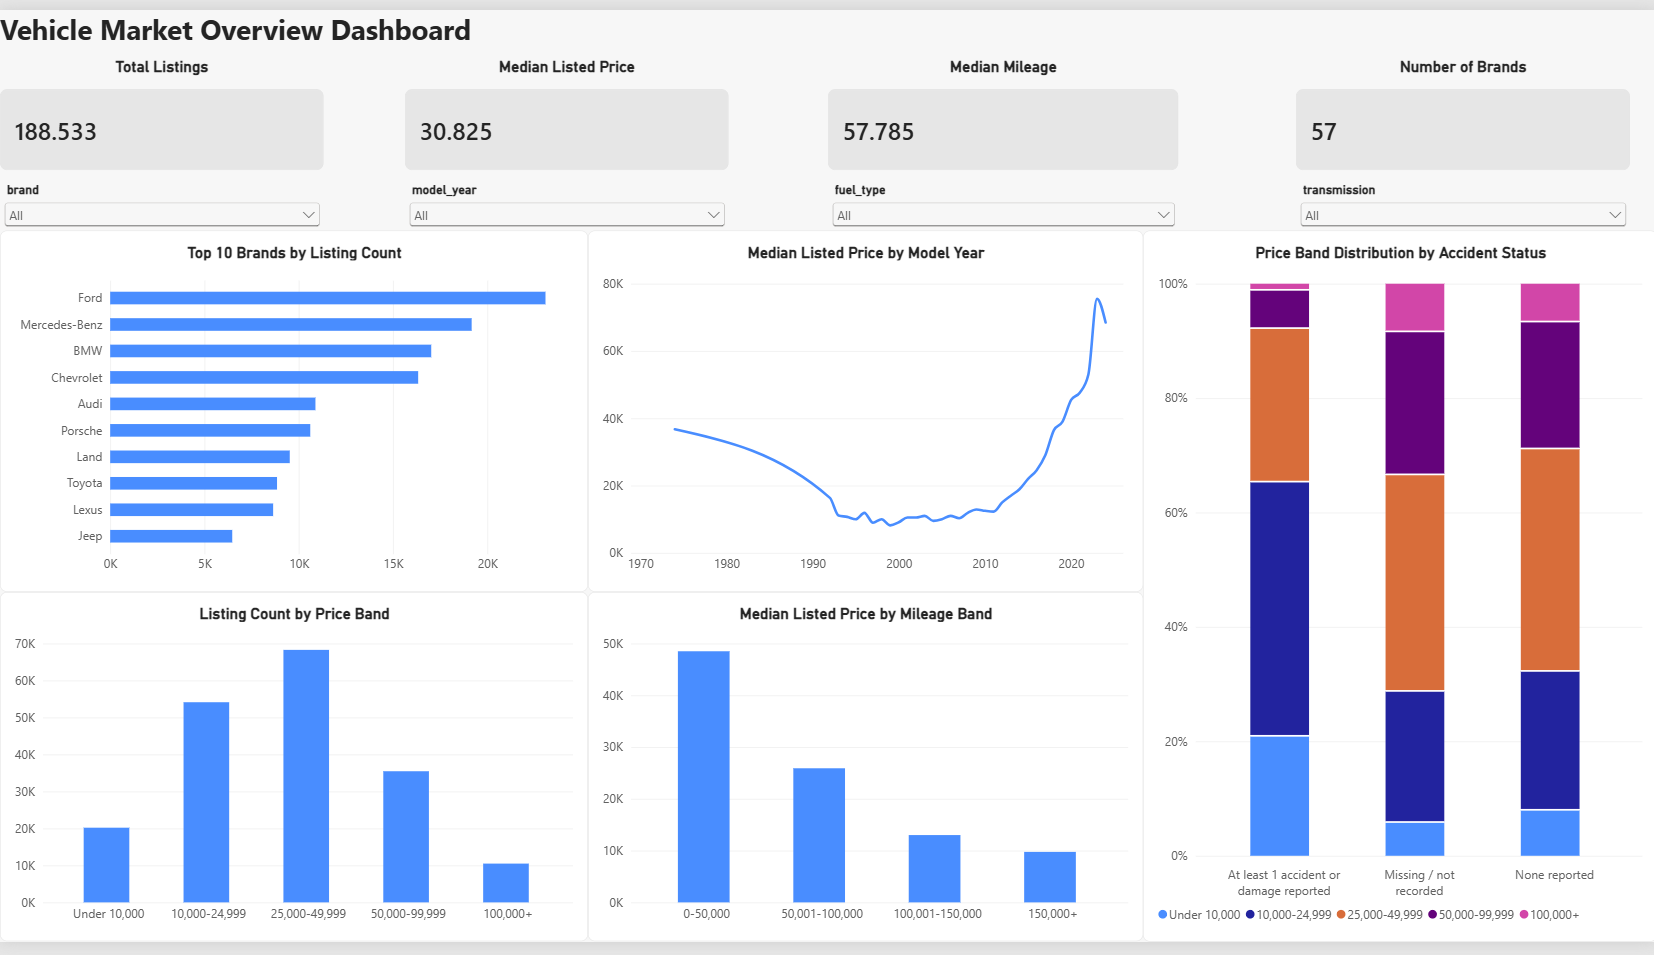

Layout of this report page (visuals, bound fields, positions):
{"tool":"powerbi","page":{"name":"Page 1","canvas":[1920,1080],"ordinal":0},"visuals":[{"type":"cardVisual","title":"Total Listings","fields":{"Data":["CountNonNull(used_cars_cleaned.id)"]},"box":[0,55.6,375.4,130.4],"z":0},{"type":"cardVisual","title":"Median Listed Price","fields":{"Data":["Median(used_cars_cleaned.price)"]},"box":[469.3,55.6,375.4,130.4],"z":1000},{"type":"cardVisual","title":"Median Mileage","fields":{"Data":["Median(used_cars_cleaned.milage)"]},"box":[959.4,55.6,406.7,130.4],"z":2000},{"type":"cardVisual","title":"Number of Brands","fields":{"Data":["Count(used_cars_cleaned.brand)"]},"box":[1501.7,55.6,387.6,130.4],"z":3000},{"type":"clusteredBarChart","title":"Top 10 Brands by Listing Count","fields":{"Category":["used_cars_cleaned.brand"],"Y":["CountNonNull(used_cars_cleaned.id)"]},"box":[0,255.5,681.3,418.9],"z":4000},{"type":"clusteredColumnChart","title":"Listing Count by Price Band","fields":{"Category":["used_cars_cleaned.price_band"],"Y":["CountNonNull(used_cars_cleaned.id)"]},"box":[0,674.4,681.3,405],"z":5000},{"type":"lineChart","title":"Median Listed Price by Model Year","fields":{"Category":["used_cars_cleaned.model_year"],"Y":["Median(used_cars_cleaned.price)"]},"box":[681.3,255.5,643.1,418.9],"z":6000},{"type":"clusteredColumnChart","title":"Median Listed Price by Mileage Band","fields":{"Category":["used_cars_cleaned.mileage_band"],"Y":["Median(used_cars_cleaned.price)"]},"box":[681.3,674.4,643.1,405],"z":7000},{"type":"hundredPercentStackedColumnChart","title":"Price Band Distribution by Accident Status","fields":{"Category":["used_cars_cleaned.accident_status"],"Series":["used_cars_cleaned.price_band"],"Y":["CountNonNull(used_cars_cleaned.id)"]},"box":[1324.4,255.5,596.2,823.9],"z":8000},{"type":"slicer","fields":{"Values":["used_cars_cleaned.brand"]},"box":[0,199.9,375.4,55.6],"z":9000},{"type":"slicer","fields":{"Values":["used_cars_cleaned.model_year"]},"box":[469.3,199.9,375.4,55.6],"z":10000},{"type":"slicer","fields":{"Values":["used_cars_cleaned.fuel_type"]},"box":[959.4,199.9,406.7,55.6],"z":11000},{"type":"slicer","fields":{"Values":["used_cars_cleaned.transmission"]},"box":[1501.7,199.9,387.6,57.4],"z":12000},{"type":"textbox","box":[0,0,1920.6,90.4],"z":13000}]}

Visuals, with their boxes in screenshot pixels (x1, y1, x2, y2), scaled from the page's 1920x1080 canvas onto the 1654x955 screenshot:
"Total Listings" cardVisual: box=[0, 49, 323, 164]
"Median Listed Price" cardVisual: box=[404, 49, 728, 164]
"Median Mileage" cardVisual: box=[826, 49, 1177, 164]
"Number of Brands" cardVisual: box=[1294, 49, 1628, 164]
"Top 10 Brands by Listing Count" clusteredBarChart: box=[0, 226, 587, 596]
"Listing Count by Price Band" clusteredColumnChart: box=[0, 596, 587, 954]
"Median Listed Price by Model Year" lineChart: box=[587, 226, 1141, 596]
"Median Listed Price by Mileage Band" clusteredColumnChart: box=[587, 596, 1141, 954]
"Price Band Distribution by Accident Status" hundredPercentStackedColumnChart: box=[1141, 226, 1653, 954]
slicer - used_cars_cleaned.brand: box=[0, 177, 323, 226]
slicer - used_cars_cleaned.model_year: box=[404, 177, 728, 226]
slicer - used_cars_cleaned.fuel_type: box=[826, 177, 1177, 226]
slicer - used_cars_cleaned.transmission: box=[1294, 177, 1628, 228]
textbox: box=[0, 0, 1653, 80]
